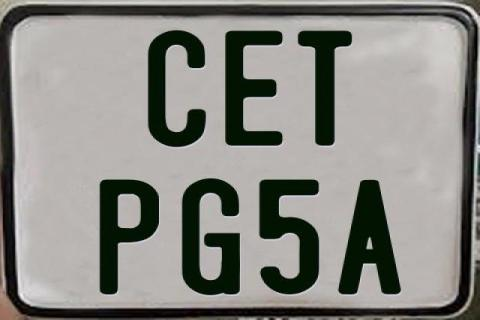0: (257, 180, 322, 300)
A: (336, 178, 405, 296)
C: (146, 28, 208, 148)
E: (225, 29, 285, 147)
G: (183, 178, 246, 300)
P: (99, 177, 162, 293)
T: (297, 30, 354, 148)
